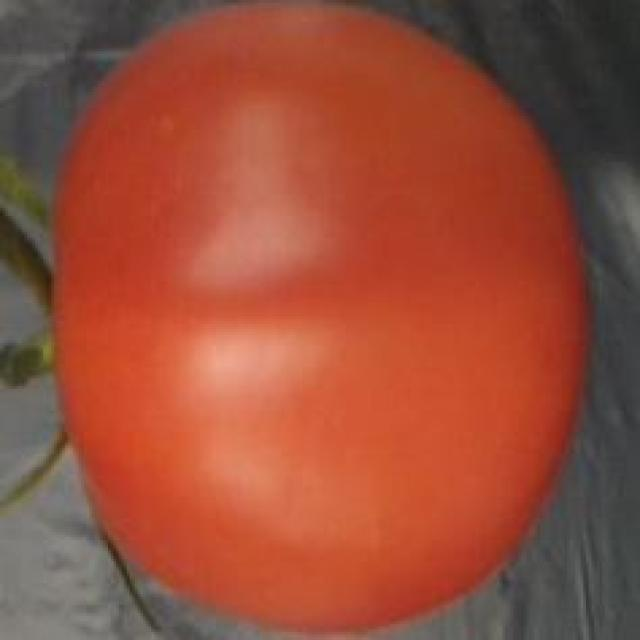overripe tomato: (40, 2, 615, 640)
